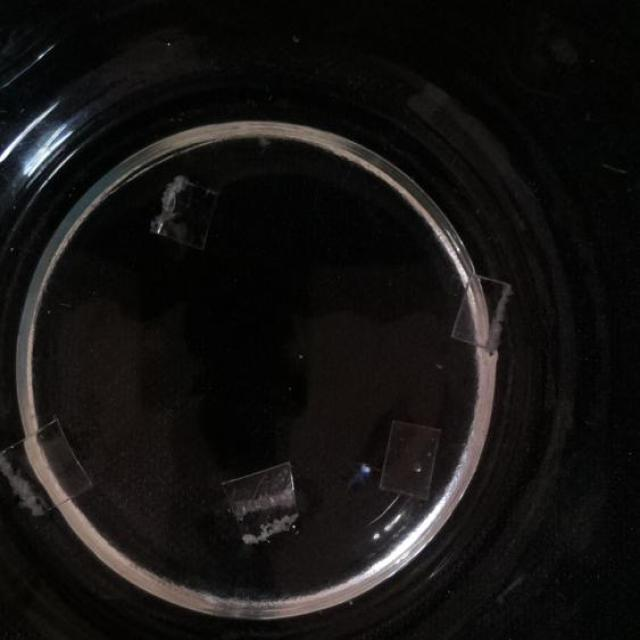fiber: (0, 420, 91, 518), (219, 460, 300, 545), (147, 172, 219, 248), (450, 268, 510, 351), (376, 417, 436, 500), (225, 575, 269, 615)
